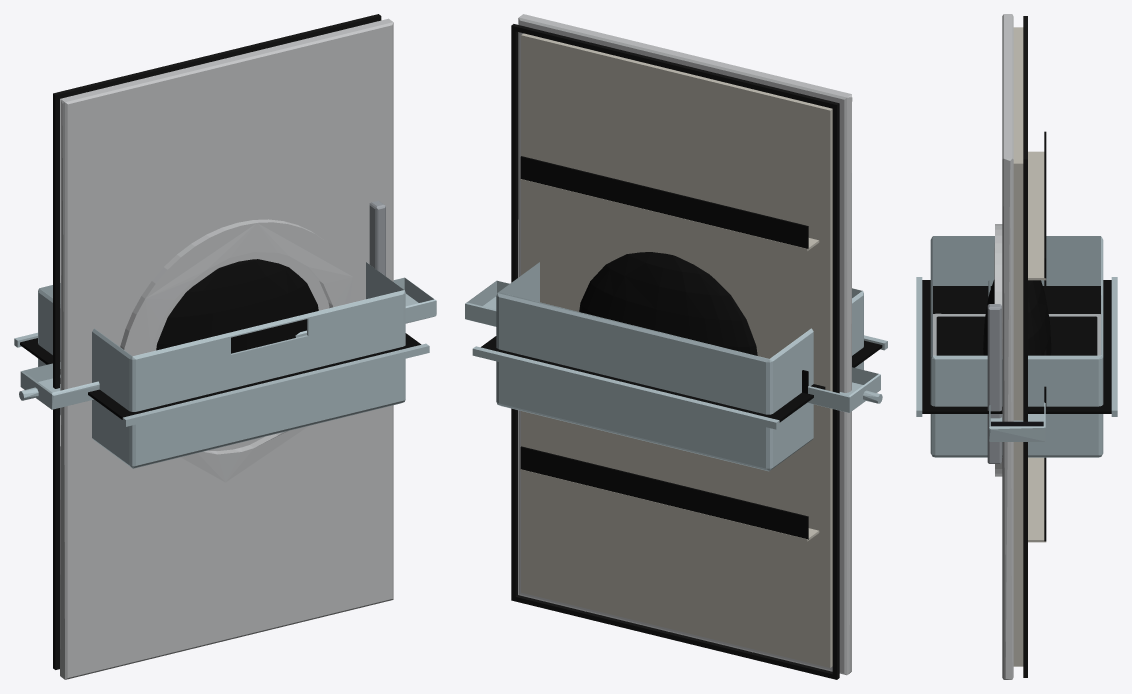
The model's file is estructura.glb.
The picture shows the model from 3 angles, left to right: view 1: azimuth 30°, elevation 25°; view 2: azimuth 150°, elevation 25°; view 3: azimuth 270°, elevation 25°; orthographic projection. The views are drawn at different scales.
Visible parts, largest first — view 1: puerta, bandeja, puerta@ojo_de_buey, bandeja@estante, bandeja@goteo; view 2: puerta, bandeja, puerta@ojo_de_buey, bandeja@estante, bandeja@goteo; view 3: puerta, bandeja, bandeja@estante, puerta@ojo_de_buey, bandeja@goteo, filtro.
Part boxes in pixels (bbox=[...]): puerta: bbox=[53, 14, 393, 679]; bandeja: bbox=[38, 262, 405, 468]; puerta@ojo_de_buey: bbox=[120, 219, 359, 482]; bandeja@estante: bbox=[14, 332, 429, 426]; bandeja@goteo: bbox=[19, 277, 436, 409]; puerta: bbox=[511, 14, 852, 679]; bandeja: bbox=[496, 262, 863, 471]; puerta@ojo_de_buey: bbox=[579, 252, 757, 355]; bandeja@estante: bbox=[472, 335, 887, 429]; bandeja@goteo: bbox=[465, 280, 882, 412]; puerta: bbox=[987, 14, 1046, 679]; bandeja: bbox=[930, 236, 1103, 457]; bandeja@estante: bbox=[916, 277, 1117, 416]; puerta@ojo_de_buey: bbox=[983, 224, 1051, 476]; bandeja@goteo: bbox=[988, 279, 1045, 441]; filtro: bbox=[933, 313, 1100, 355].
Size of the model in its own units: 72.5 by 100 by 35.
